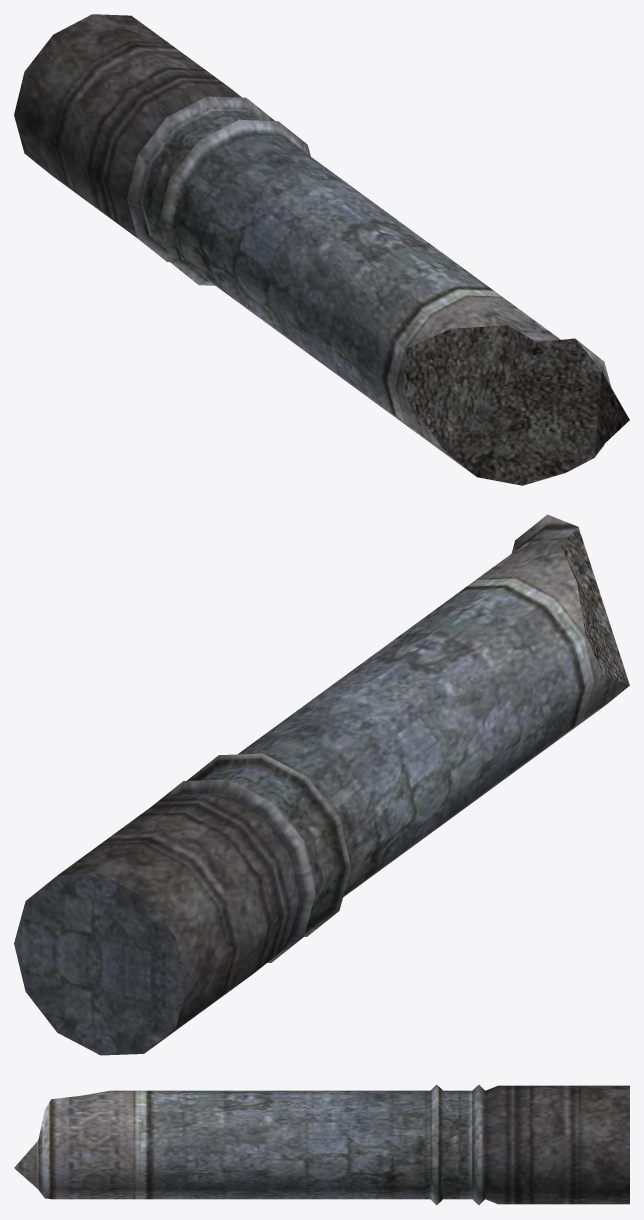
3 renders of one model, top to bottom at view 1: azimuth 30°, elevation 25°; view 2: azimuth 150°, elevation 25°; view 3: azimuth 270°, elevation 25°, orthographic. The views are drawn at different scales.
Visible parts, largest first — view 1: model_Object43; view 2: model_Object43; view 3: model_Object43.
Boxes of the visible parts, <box> form: model_Object43: <box>14,14,629,485</box>; model_Object43: <box>14,514,629,1055</box>; model_Object43: <box>14,1084,629,1205</box>.
Size of the model in its own units: 0.5294 by 0.5294 by 2.68.
Materials: 2 (2 with a texture image).
